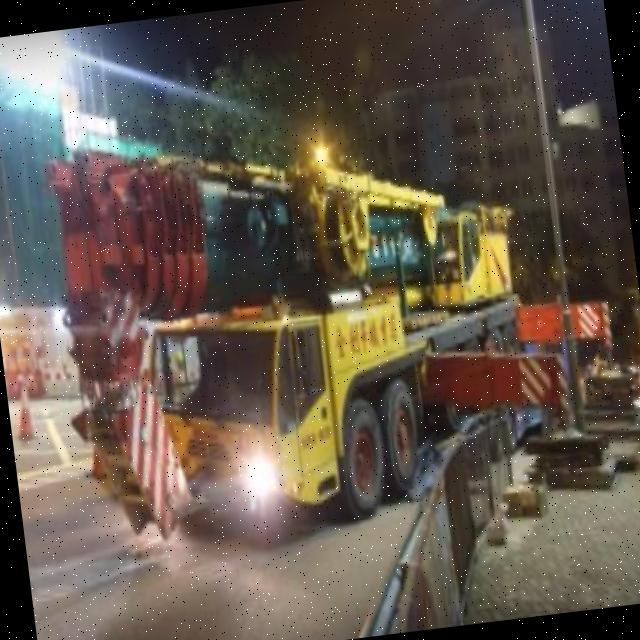Mobile Crane: (36, 79, 634, 552)
